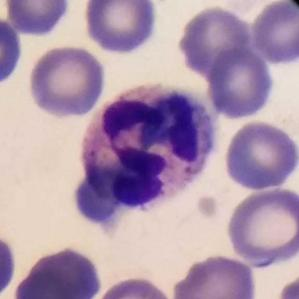Neutrophil: (71, 71, 227, 225)
Platelets: (189, 193, 223, 224)
RBC: (25, 42, 108, 119), (223, 184, 299, 268), (174, 3, 254, 79), (10, 240, 110, 299), (204, 44, 278, 122), (221, 118, 298, 192), (80, 0, 161, 56), (169, 251, 259, 299), (248, 0, 299, 68), (1, 0, 75, 39), (88, 273, 176, 299), (0, 12, 26, 93), (0, 226, 20, 299), (275, 268, 299, 298)
